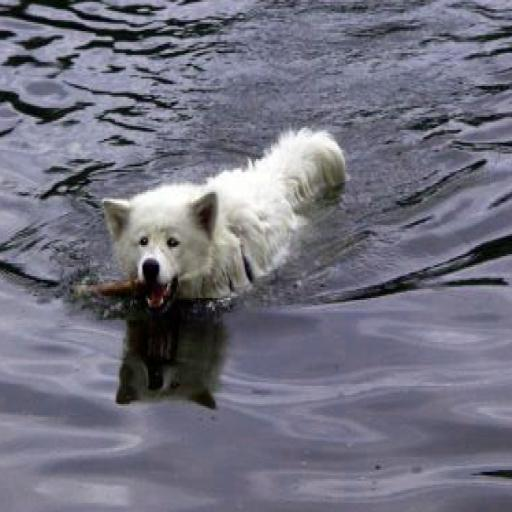dog_face: (100, 184, 226, 314)
